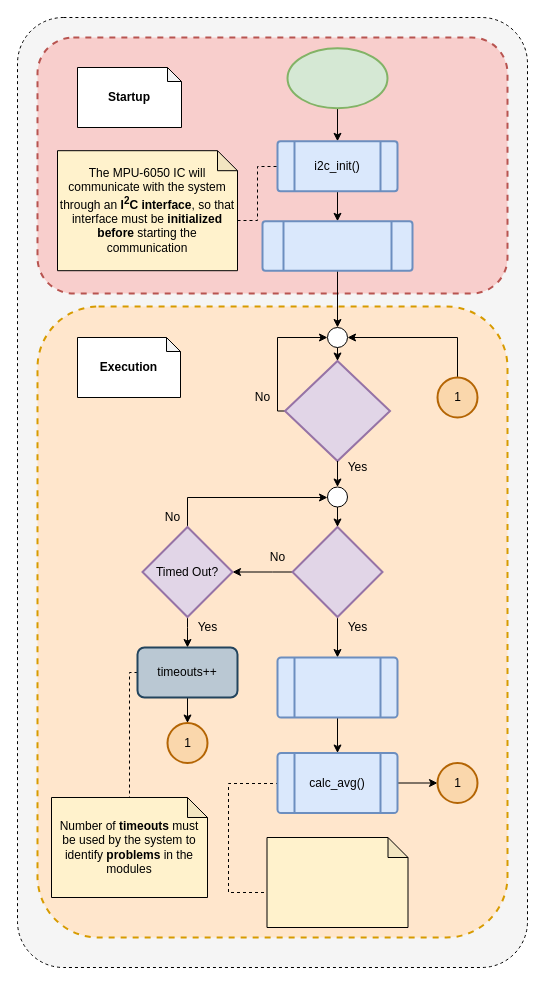
This 545x985 diagram has some shape labels left out. Here are the shapes that lost their labels. From the top down, the centre of each, then its label:
pixel 337 78: Start
pixel 337 245: gyro_acc_config()
pixel 337 411: Sample Period Elapsed?
pixel 337 572: Data Received?
pixel 337 687: store_value()
pixel 337 882: The system performs oversampling with averaging
